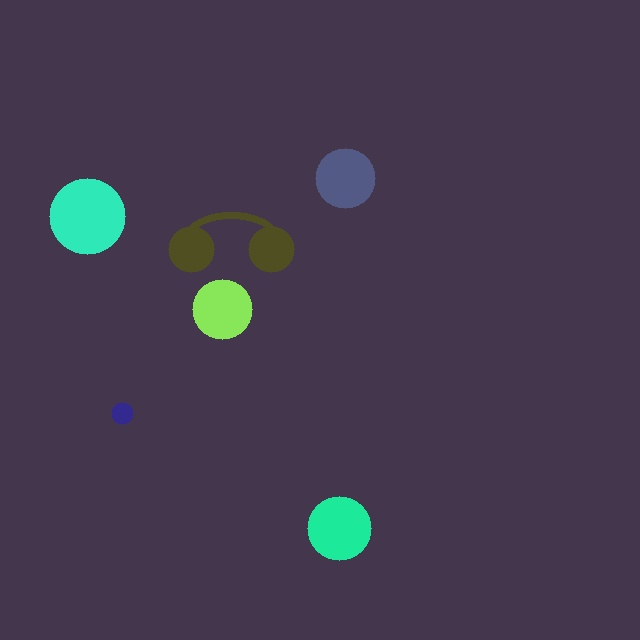over_ear: (164, 198, 298, 276)
